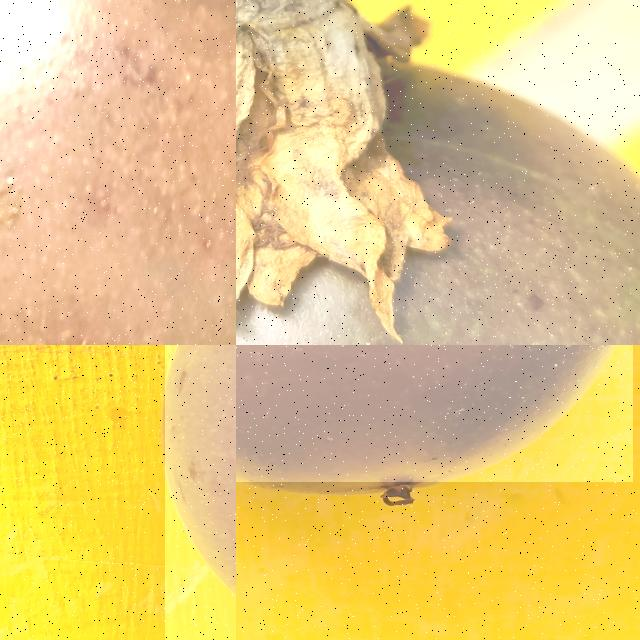Estado-4: (236, 0, 640, 345)
Estado-6: (0, 0, 236, 345), (236, 345, 601, 482)
